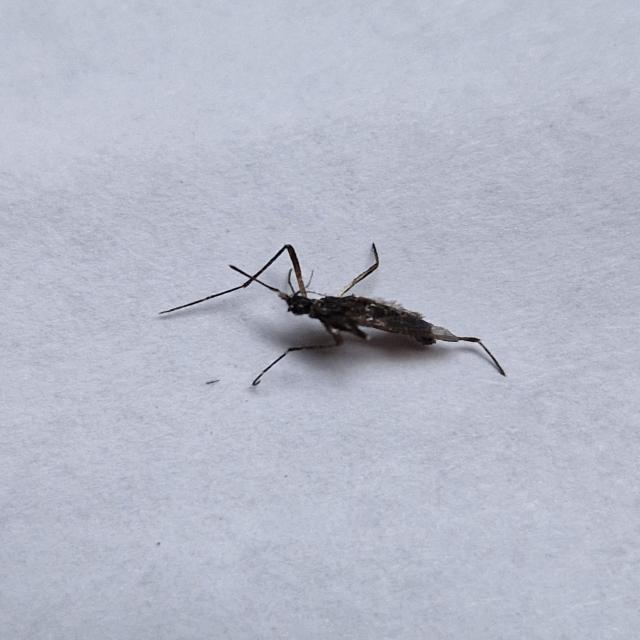albopictus: (163, 224, 503, 398)
